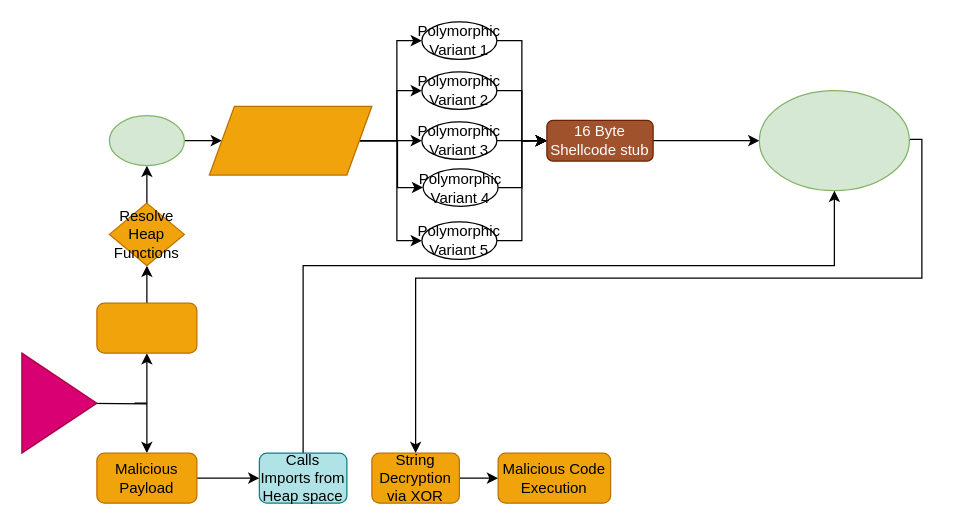
Some shapes in this 954 by 526 pixel diagram are drawn without their labels. Here are the shapes that lost their labels. From the top down, the centre of each, then its label:
At pixel 146 140: "New Heap".
At pixel 290 140: "Resolve Functions from Hash List".
At pixel 833 140: "Heap Space".
At pixel 146 327: "IAT Reconstruction".
At pixel 59 402: "Entry".
